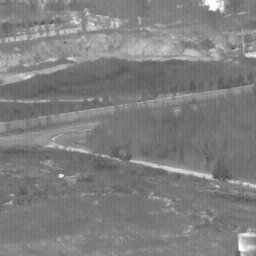Target: (57, 172, 65, 179)
